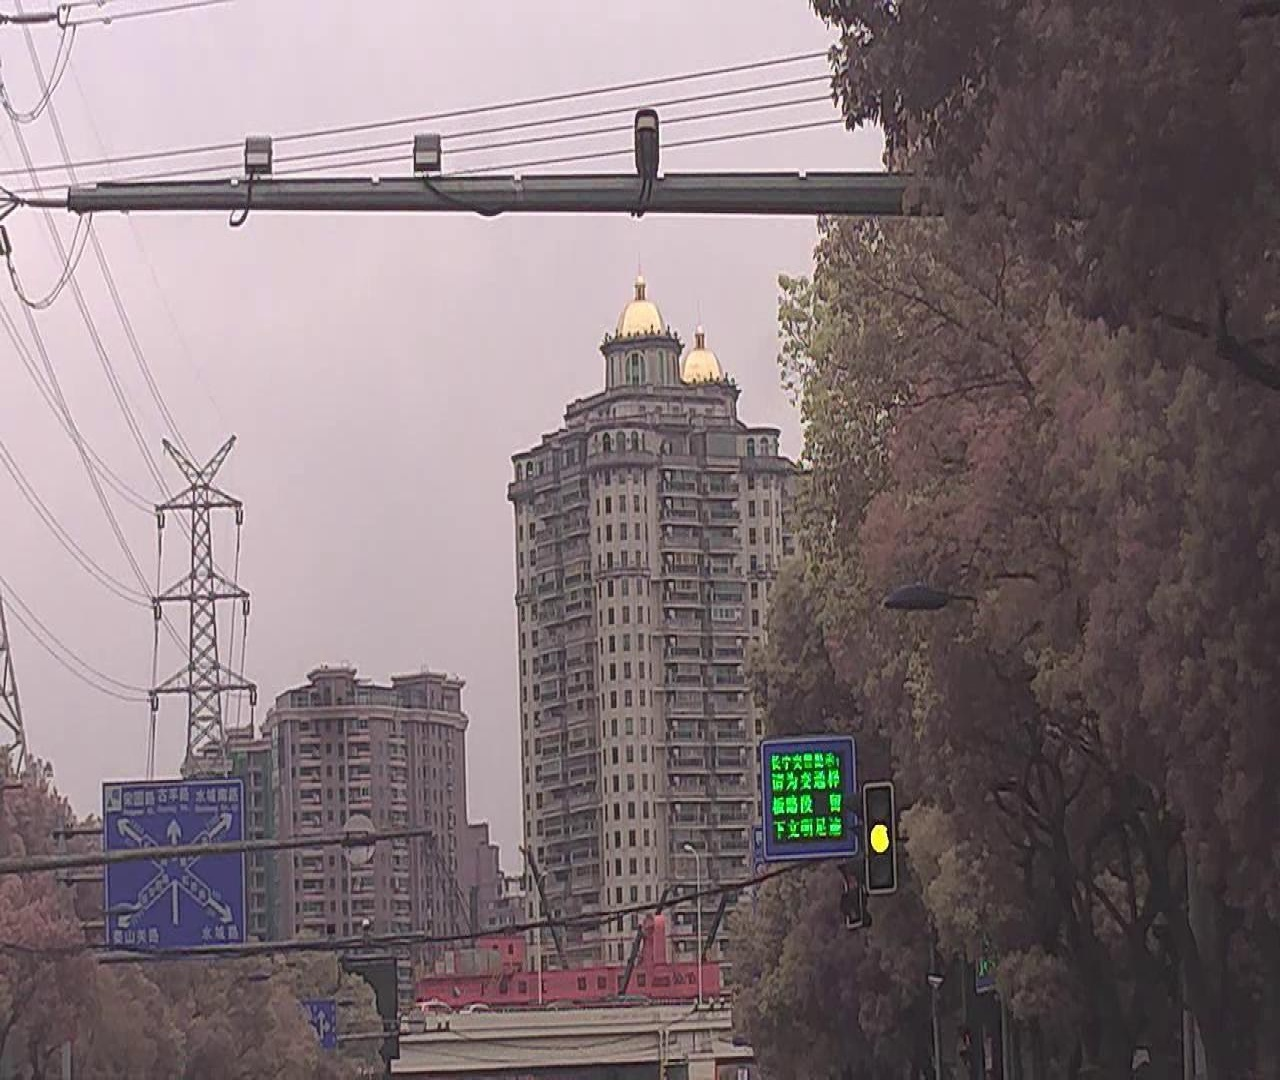yellow: (861, 777, 898, 892)
